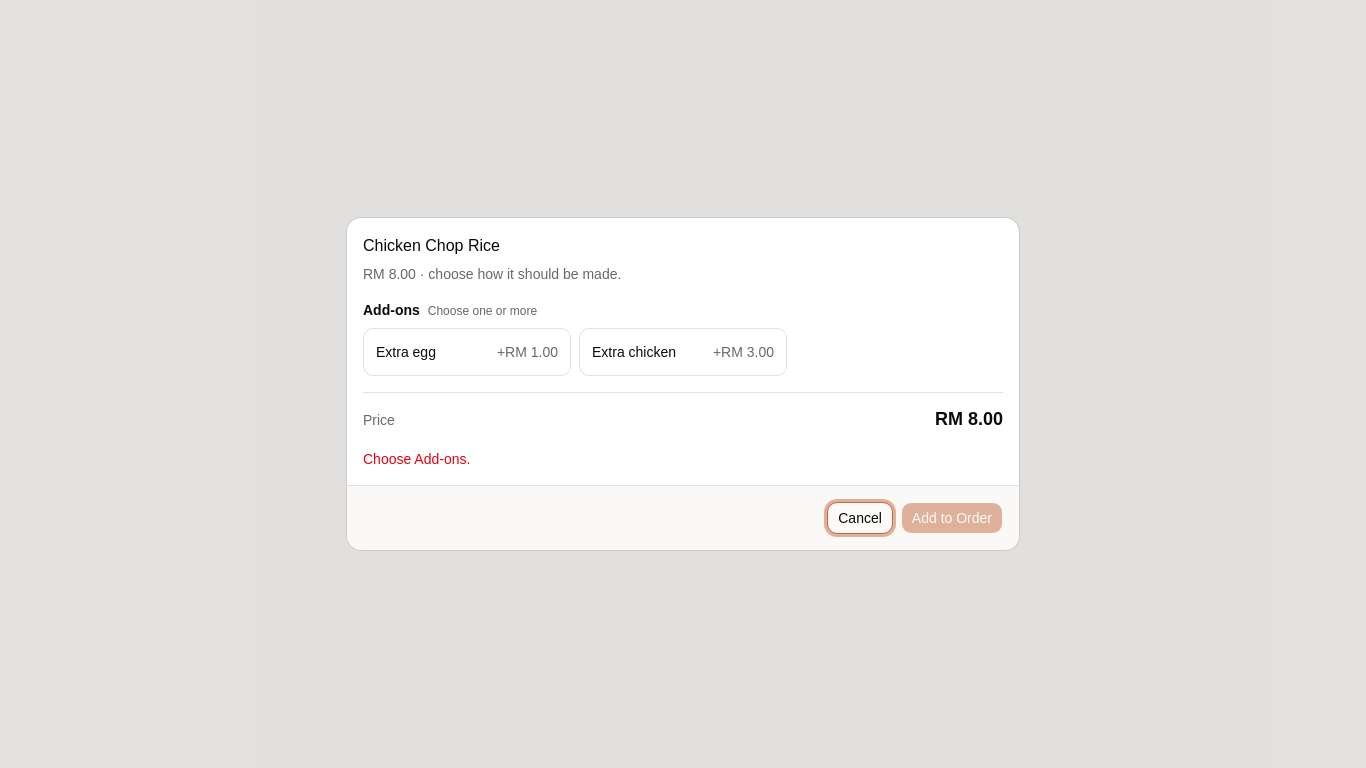
Test case: a required group must be answered › blocks the add with a reason when nothing is chosen
This screenshot has width=1366, height=768.
Expected: the button with test id "customise-add" is disabled, [901,502,1003,534]
Expected: the text with test id "customise-error" shows "Add-ons", [363,451,470,467]
Step 1. Click the checkbox with test id "modifier-option" → (467, 352), box [363,328,571,376]
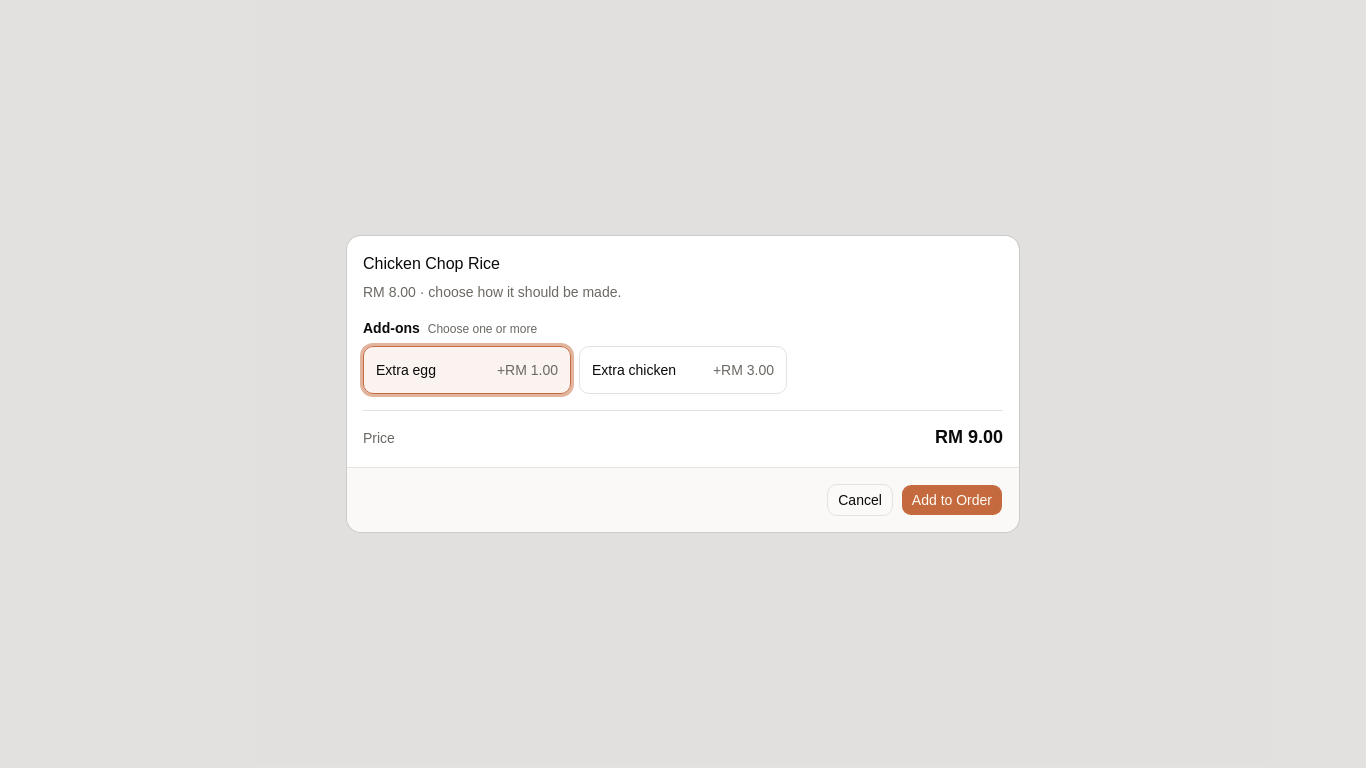
Expected: the button with test id "customise-add" is enabled, [901,484,1003,516]
